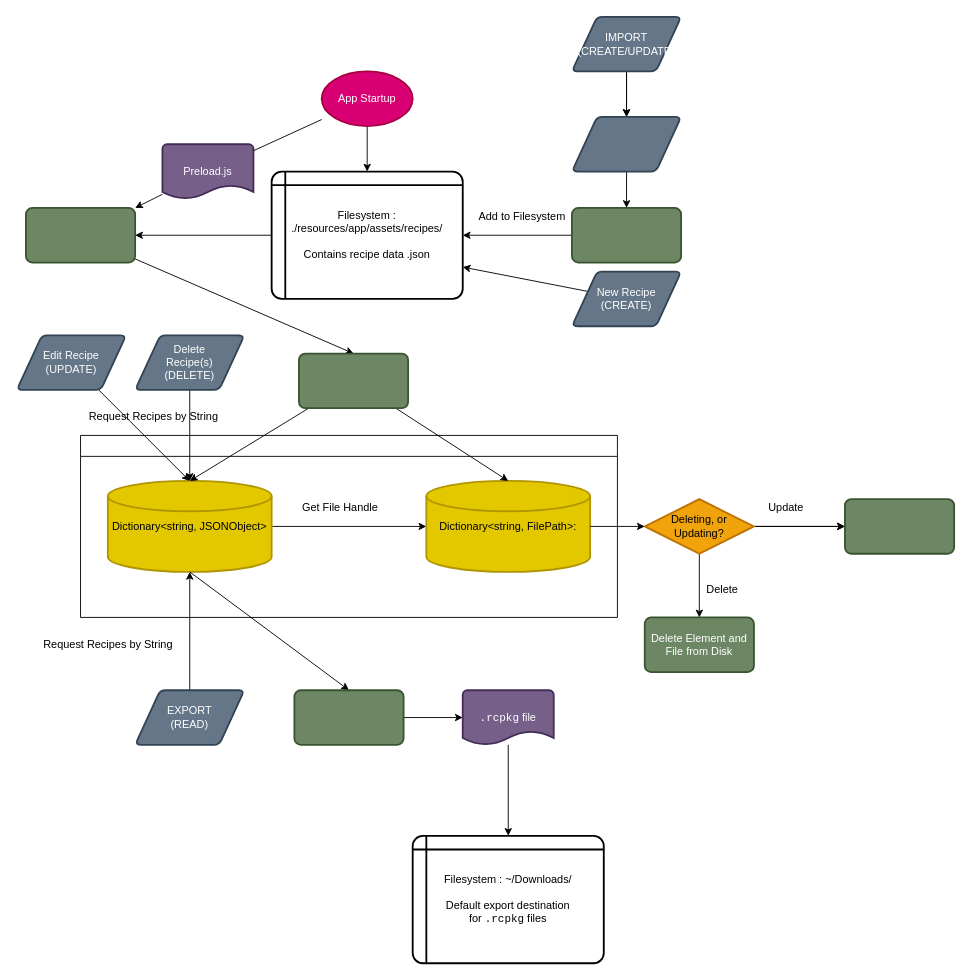
This 970x979 diagram has some shape labels left out. Here are the shapes that lost their labels. From the top down, the box of each, then its label:
(571, 116, 682, 172): Get .rcpkg
(25, 207, 136, 263): Load All/New JSON files into recipe cards
(571, 207, 682, 263): Unpack to JSON files
(298, 352, 409, 409): Create/Update Dictionaries
(80, 435, 617, 617): IOSystem.js
(844, 498, 955, 554): Change JSON on disk and in Data Structs
(293, 689, 404, 745): Pack into JSON object with a single array
